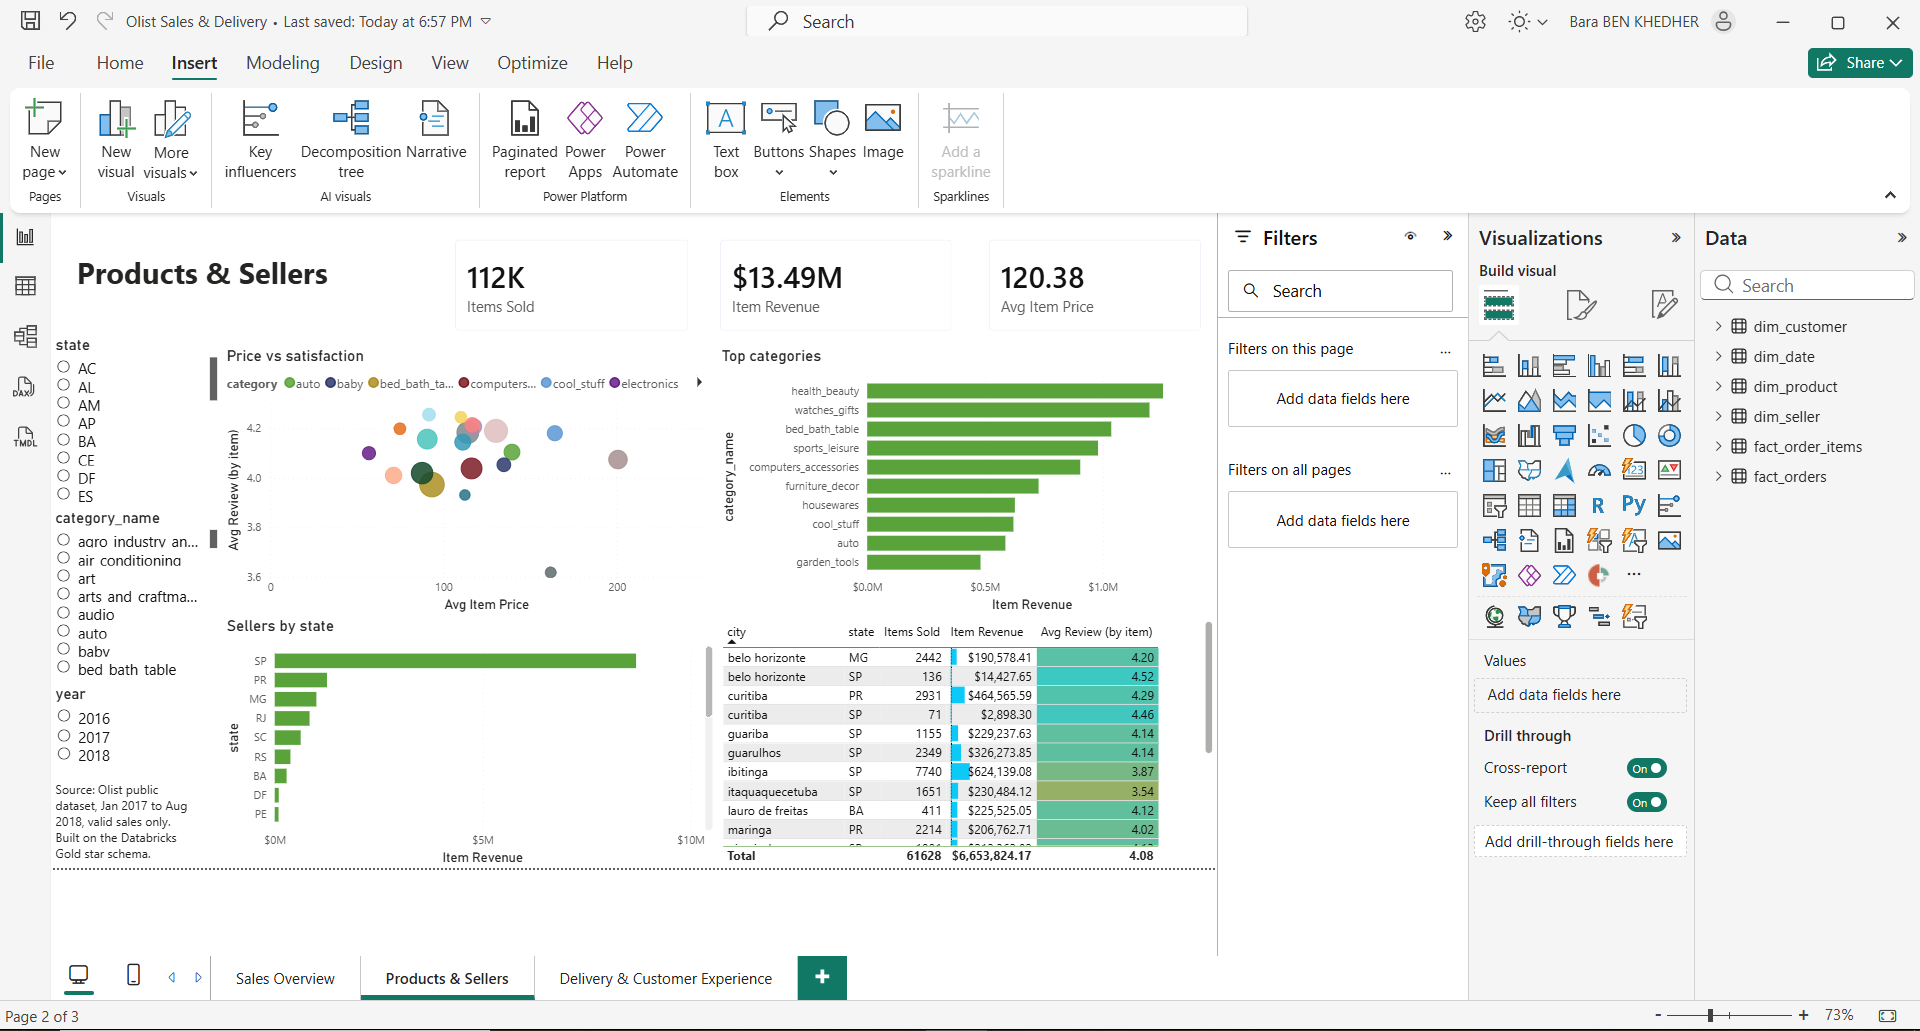

Layout of this report page (visuals, bound fields, positions):
{"tool":"powerbi","page":{"name":"Products & Sellers","canvas":[1280,720],"ordinal":1},"visuals":[{"type":"listSlicer","fields":{"Values":["dim_date.year"]},"box":[0,517.3,188,203.1],"z":0},{"type":"listSlicer","fields":{"Values":["dim_product.category_name"]},"box":[0,323.8,188,193.5],"z":1000},{"type":"listSlicer","fields":{"Values":["dim_customer.state"]},"box":[0,134.5,188,189.4],"z":2000},{"type":"cardVisual","fields":{"Data":["fact_orders.Items Sold"]},"box":[426.8,12.3,290.9,134.5],"z":3000},{"type":"cardVisual","fields":{"Data":["fact_orders.Item Revenue"]},"box":[717.7,12.3,288.2,134.5],"z":4000},{"type":"cardVisual","fields":{"Data":["fact_orders.Avg Item Price"]},"box":[1012.7,12.3,267.6,134.5],"z":5000},{"type":"clusteredBarChart","title":"Top categories","fields":{"Category":["dim_product.category_name"],"Y":["fact_orders.Item Revenue"]},"box":[731.4,146.8,548.9,296.4],"z":6000},{"type":"scatterChart","title":"Price vs satisfaction","fields":{"Series":["dim_product.category_name"],"Size":["fact_orders.Items Sold"],"X":["fact_orders.Avg Item Price"],"Y":["fact_orders.Avg Review (by item)"]},"box":[188,146.8,543.4,296.4],"z":7000},{"type":"clusteredBarChart","title":"Sellers by state","fields":{"Category":["dim_seller.state"],"Y":["fact_orders.Item Revenue"]},"box":[188,443.2,543.4,277.2],"z":8000},{"type":"tableEx","fields":{"Values":["dim_seller.city","dim_seller.state","fact_orders.Items Sold","fact_orders.Item Revenue","fact_orders.Avg Review (by item)"]},"box":[731.4,443.2,548.9,277.2],"z":9000},{"type":"textbox","box":[16.5,38.4,299.1,59],"z":10000},{"type":"textbox","box":[0,618.9,166,102.9],"z":10001}]}

Visuals, with their boxes on the page's 1280x720 design canvas (x1, y1, x2, y2). These are canvas units, not pixel positions in the 1920x1031 screenshot, which may show the page scaled, cropped or inside an application window:
listSlicer - dim_date.year: [x1=0, y1=517, x2=188, y2=720]
listSlicer - dim_product.category_name: [x1=0, y1=324, x2=188, y2=517]
listSlicer - dim_customer.state: [x1=0, y1=134, x2=188, y2=324]
cardVisual - fact_orders.Items Sold: [x1=427, y1=12, x2=718, y2=147]
cardVisual - fact_orders.Item Revenue: [x1=718, y1=12, x2=1006, y2=147]
cardVisual - fact_orders.Avg Item Price: [x1=1013, y1=12, x2=1280, y2=147]
"Top categories" clusteredBarChart: [x1=731, y1=147, x2=1280, y2=443]
"Price vs satisfaction" scatterChart: [x1=188, y1=147, x2=731, y2=443]
"Sellers by state" clusteredBarChart: [x1=188, y1=443, x2=731, y2=720]
tableEx - dim_seller.city x dim_seller.state: [x1=731, y1=443, x2=1280, y2=720]
textbox: [x1=16, y1=38, x2=316, y2=97]
textbox: [x1=0, y1=619, x2=166, y2=722]
